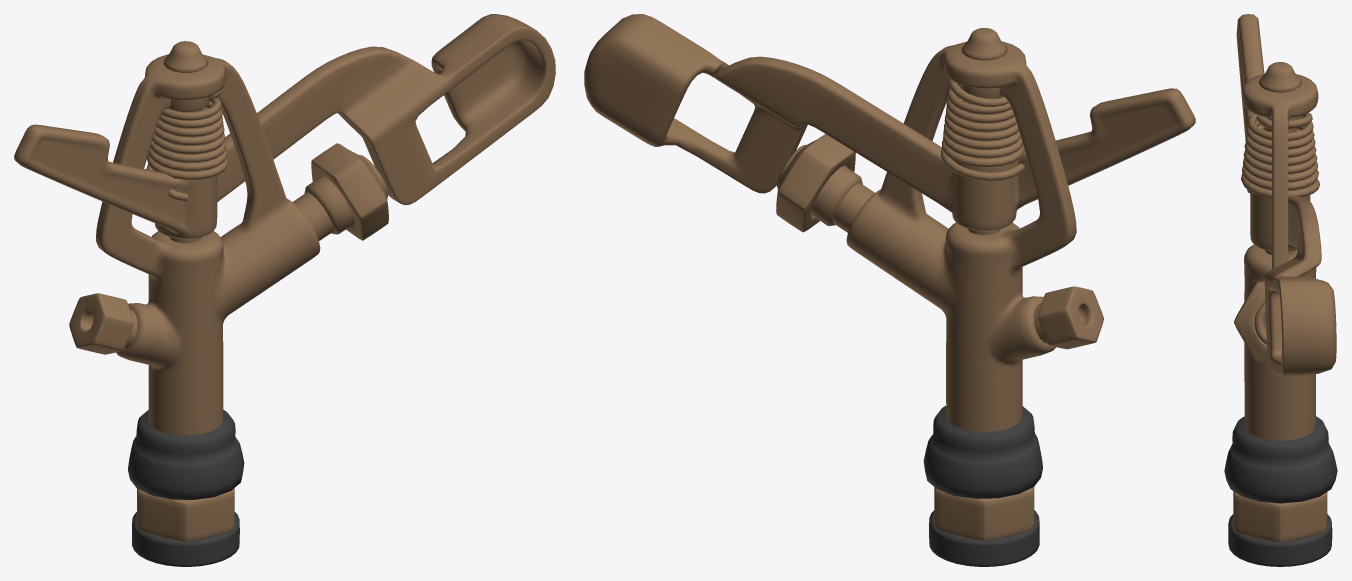
The model's file is Cube@unity.fbx.
The picture shows the model from 3 angles, left to right: view 1: azimuth 30°, elevation 25°; view 2: azimuth 150°, elevation 25°; view 3: azimuth 270°, elevation 25°; orthographic projection. The views are drawn at different scales.
Visible parts, largest first — view 1: G3_Arm_Lowres, G4_Body_Lowres, G1_Bottom_Brass_Lowres, G1_Spring_Lowres, G2_Bottom_Bolt_Lowres, G2_Barrel_Bolt_Lowres, G1_Rear_Bolt_Lowres, G1_Bottom_Ring_Lowres, G1_Barrel_1_Lowres, G1_Cap_Lowres, G3_Barrel_2_Lowres; view 2: G3_Arm_Lowres, G4_Body_Lowres, G1_Bottom_Brass_Lowres, G1_Spring_Lowres, G2_Bottom_Bolt_Lowres, G2_Barrel_Bolt_Lowres, G1_Rear_Bolt_Lowres, G1_Bottom_Ring_Lowres, G1_Barrel_1_Lowres, G1_Cap_Lowres, G3_Barrel_2_Lowres; view 3: G3_Arm_Lowres, G4_Body_Lowres, G1_Bottom_Brass_Lowres, G1_Spring_Lowres, G2_Bottom_Bolt_Lowres, G1_Bottom_Ring_Lowres, G2_Barrel_Bolt_Lowres, G1_Cap_Lowres, G1_Barrel_Spout_Lowres, G2_Centre_Rod_Lowres.
Part boxes in pixels (x1,y1,x2,y2): G3_Arm_Lowres: [14, 14, 555, 238]; G4_Body_Lowres: [96, 54, 320, 435]; G1_Bottom_Brass_Lowres: [128, 410, 244, 499]; G1_Spring_Lowres: [146, 90, 228, 201]; G2_Bottom_Bolt_Lowres: [137, 488, 234, 541]; G2_Barrel_Bolt_Lowres: [311, 143, 388, 240]; G1_Rear_Bolt_Lowres: [69, 293, 133, 354]; G1_Bottom_Ring_Lowres: [132, 512, 239, 566]; G1_Barrel_1_Lowres: [304, 176, 354, 234]; G1_Cap_Lowres: [163, 41, 208, 72]; G3_Barrel_2_Lowres: [292, 192, 333, 240]; G3_Arm_Lowres: [584, 14, 1195, 230]; G4_Body_Lowres: [846, 41, 1076, 431]; G1_Bottom_Brass_Lowres: [923, 406, 1042, 498]; G1_Spring_Lowres: [940, 79, 1024, 180]; G2_Bottom_Bolt_Lowres: [934, 487, 1034, 541]; G2_Barrel_Bolt_Lowres: [776, 134, 855, 232]; G1_Rear_Bolt_Lowres: [1037, 286, 1103, 349]; G1_Bottom_Ring_Lowres: [929, 510, 1039, 566]; G1_Barrel_1_Lowres: [811, 166, 862, 226]; G1_Cap_Lowres: [961, 28, 1007, 60]; G3_Barrel_2_Lowres: [833, 183, 874, 232]; G3_Arm_Lowres: [1236, 14, 1336, 375]; G4_Body_Lowres: [1242, 74, 1318, 440]; G1_Bottom_Brass_Lowres: [1224, 416, 1337, 503]; G1_Spring_Lowres: [1241, 112, 1319, 198]; G2_Bottom_Bolt_Lowres: [1233, 491, 1327, 542]; G1_Bottom_Ring_Lowres: [1228, 514, 1332, 566]; G2_Barrel_Bolt_Lowres: [1234, 280, 1267, 363]; G1_Cap_Lowres: [1258, 62, 1301, 92]; G1_Barrel_Spout_Lowres: [1254, 302, 1266, 344]; G2_Centre_Rod_Lowres: [1264, 127, 1296, 254].
Size of the model in its own units: 75.66 by 65.01 by 13.84.
